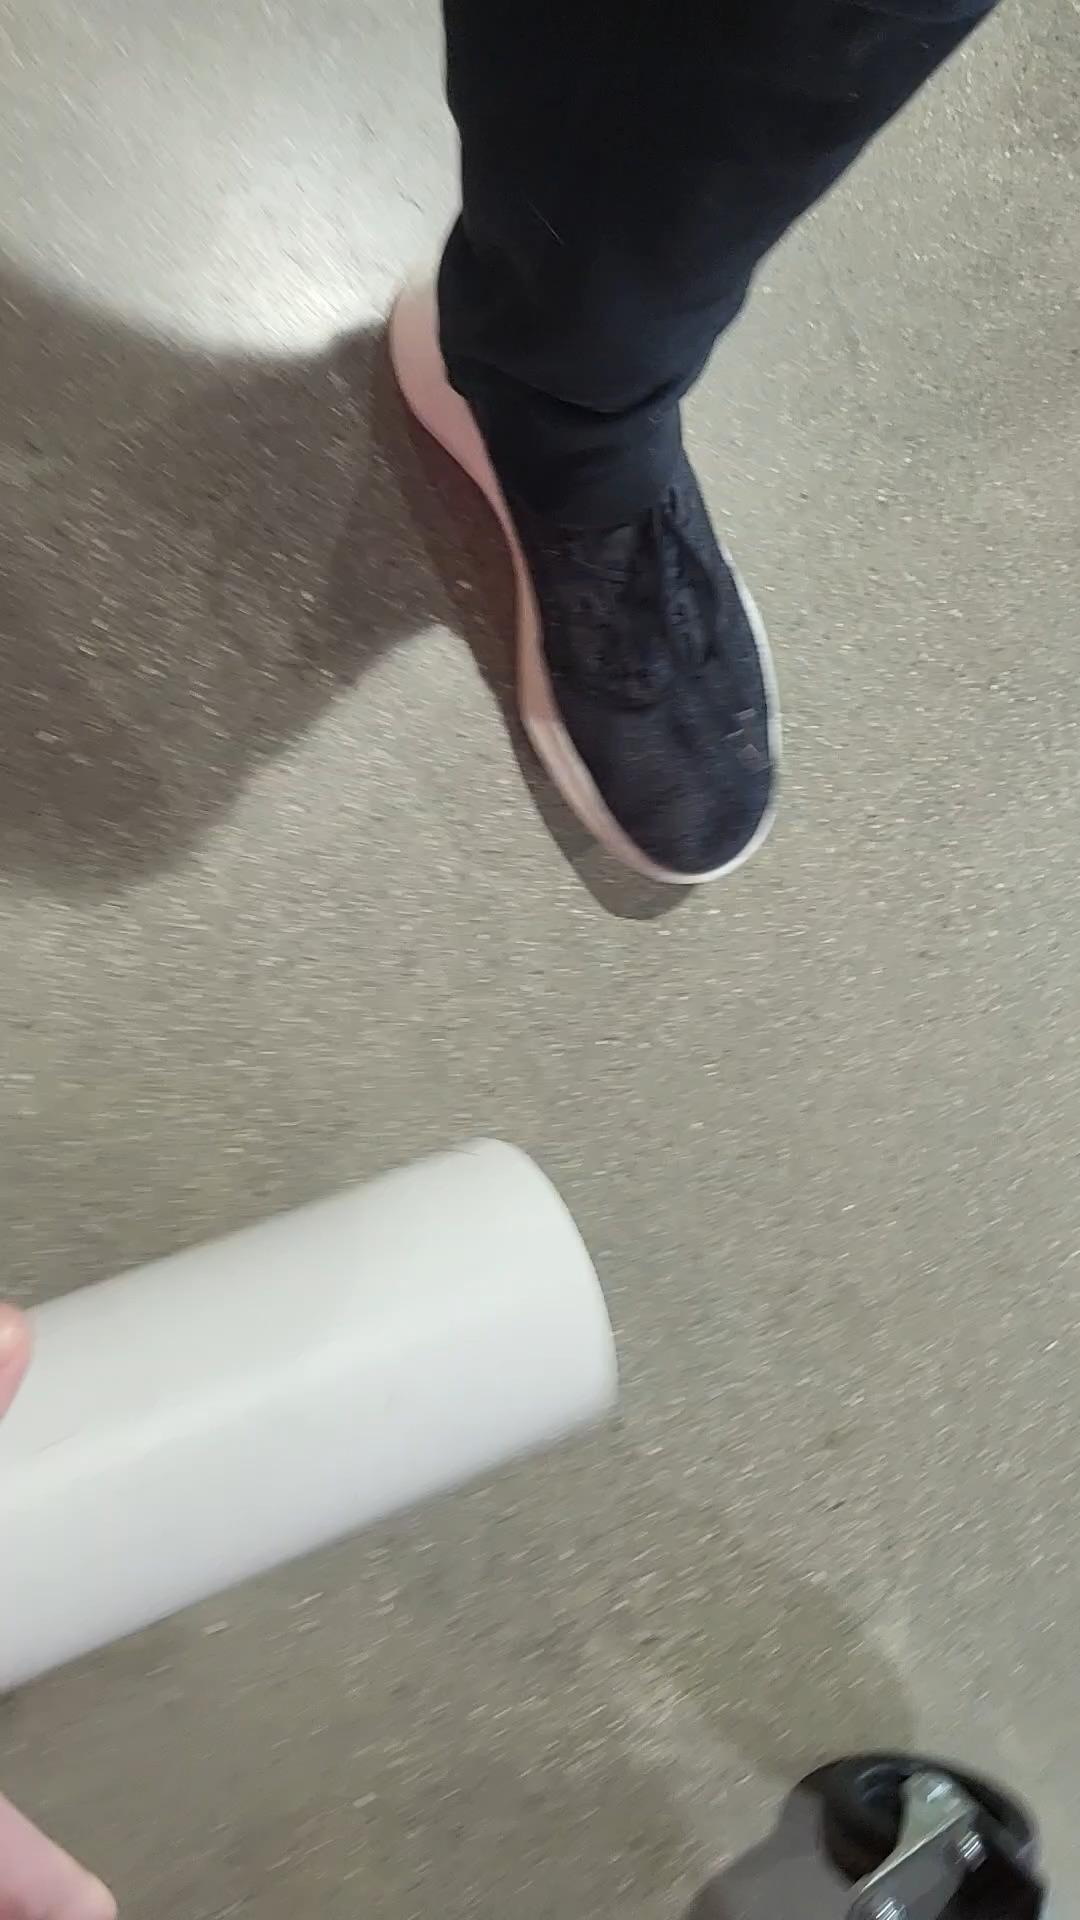coral: (0, 1135, 618, 1710)
